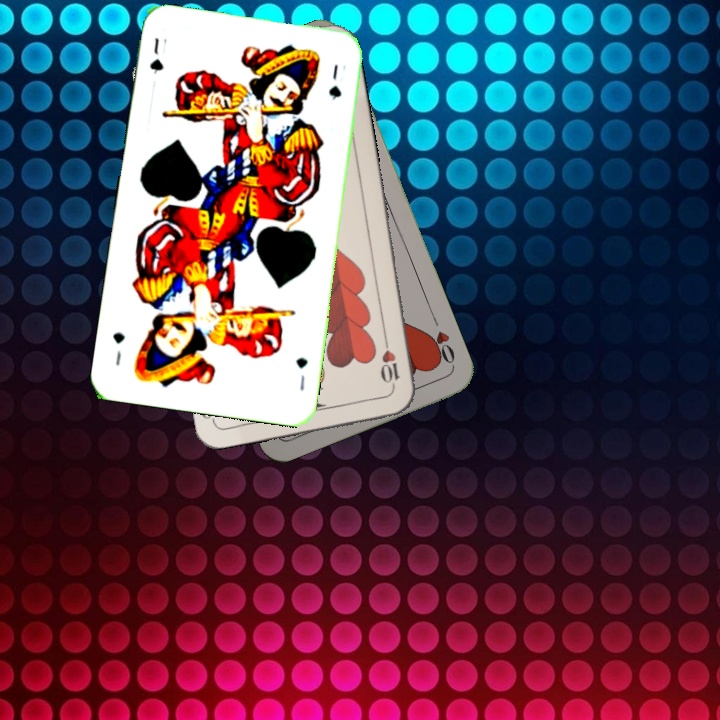GU: (145, 34, 170, 76), (292, 353, 311, 393)
H10: (377, 333, 402, 392)
HO: (423, 312, 458, 367)
